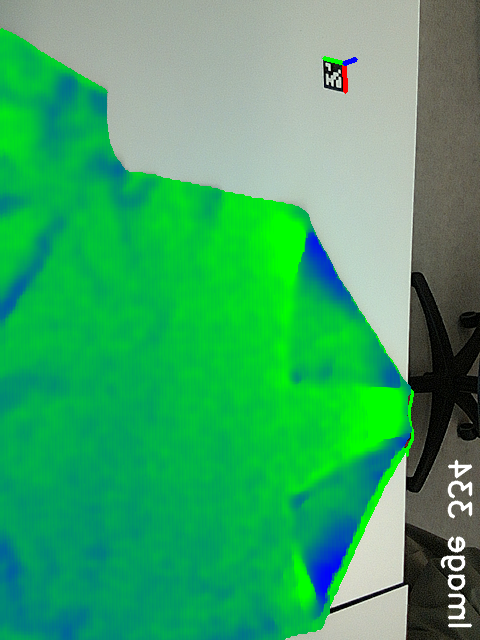V: (271, 343, 330, 397), (273, 475, 327, 523)
